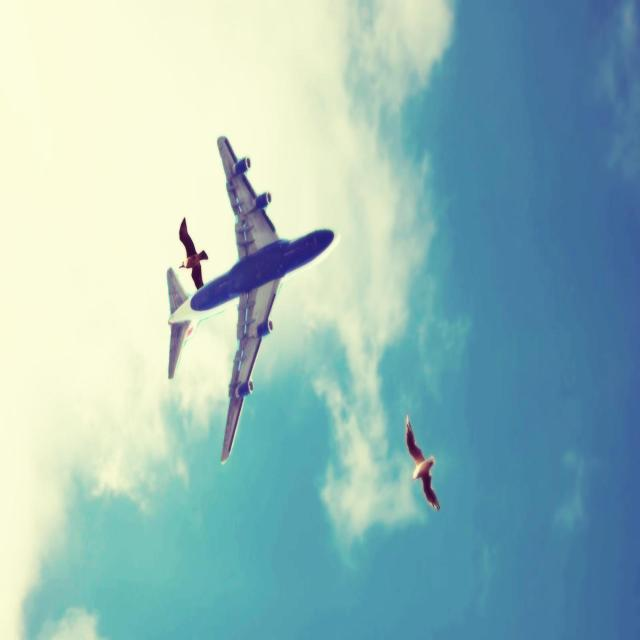airplane: (166, 134, 338, 463)
